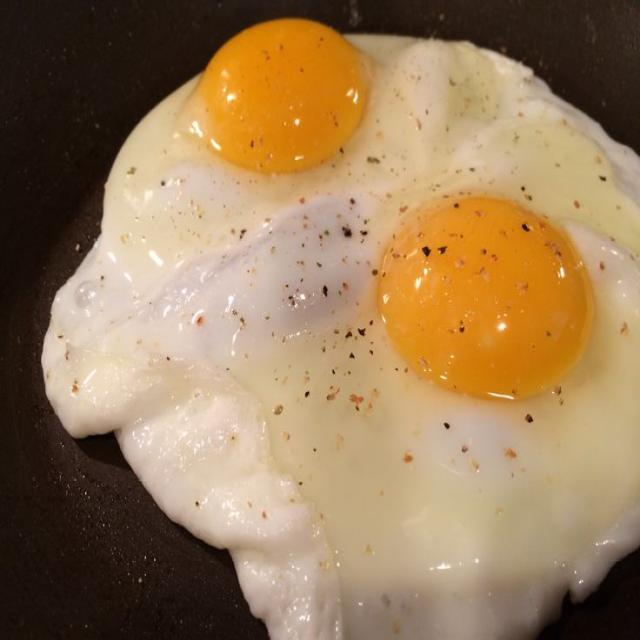fryed egg: (43, 20, 639, 638)
